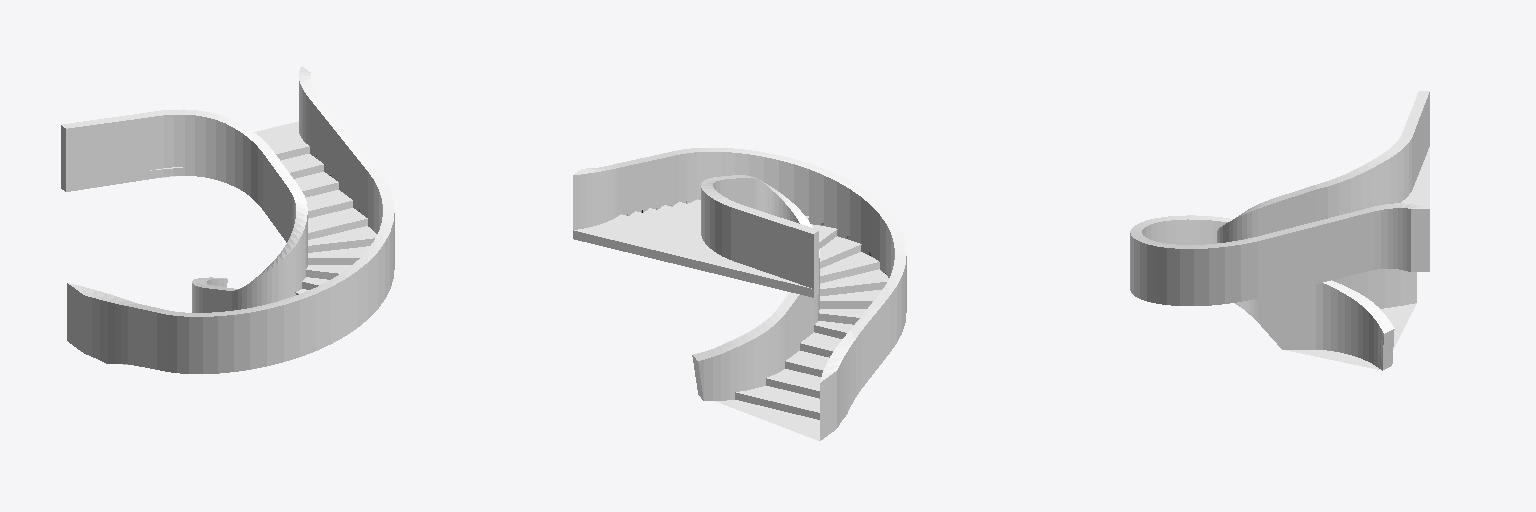
Rendered from staircase.obj.
The picture shows the model from 3 angles: view 1: azimuth 30°, elevation 25°; view 2: azimuth 150°, elevation 25°; view 3: azimuth 270°, elevation 25°; orthographic projection.
Visible parts, largest first — view 1: Mesh21 Model; view 2: Mesh21 Model; view 3: Mesh21 Model.
Part boxes in pixels (bbox=[...]): Mesh21 Model: bbox=[61, 66, 394, 373]; Mesh21 Model: bbox=[573, 148, 906, 440]; Mesh21 Model: bbox=[1130, 91, 1429, 370].
Bounding box in the file's own units: 4.8 × 4.03 × 5.17.